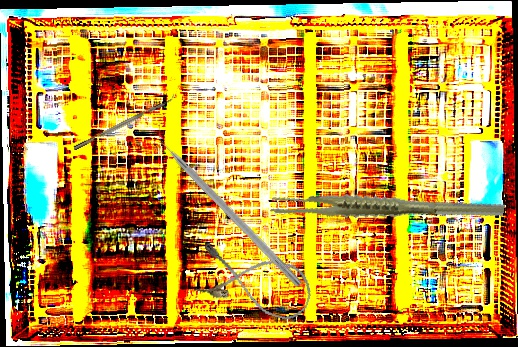Cannula: (191, 239, 318, 325)
Chopper: (146, 118, 312, 289), (70, 91, 178, 151)
Tissue Forceps: (269, 155, 506, 261)
